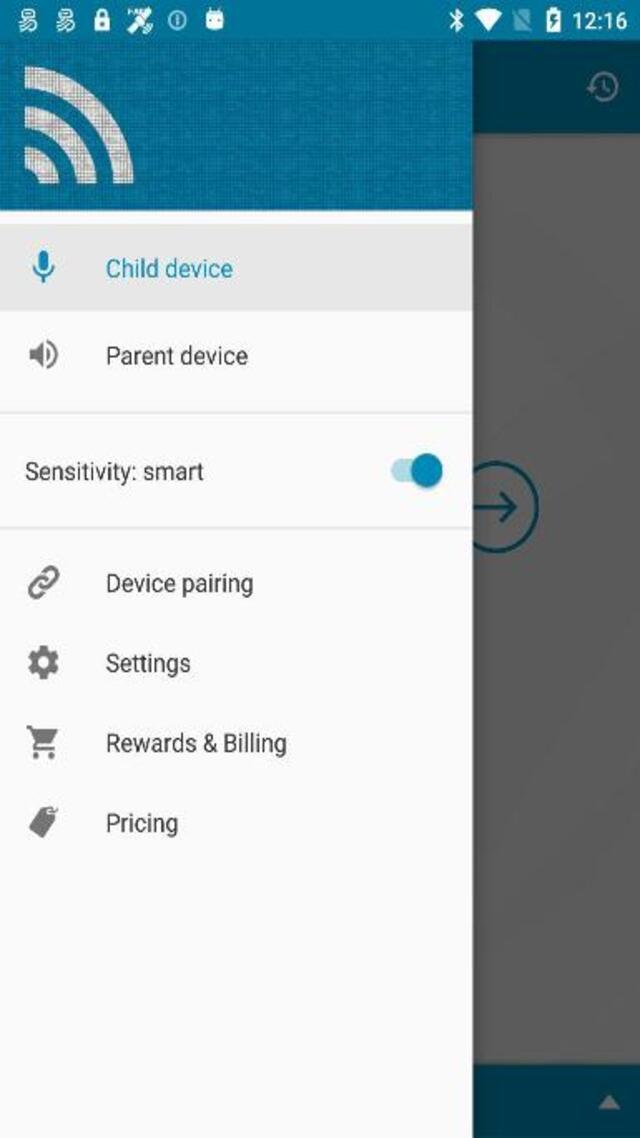CheckedTextView: (390, 452, 446, 491)
Icon: (25, 725, 58, 758), (27, 644, 59, 678), (27, 564, 59, 598), (28, 806, 58, 838), (29, 339, 57, 369), (32, 250, 54, 284)
Image: (26, 66, 134, 183)
Text: (24, 460, 204, 486), (106, 731, 286, 756), (106, 573, 252, 598), (108, 345, 248, 366), (107, 258, 232, 279), (106, 652, 190, 677), (108, 813, 178, 838)
